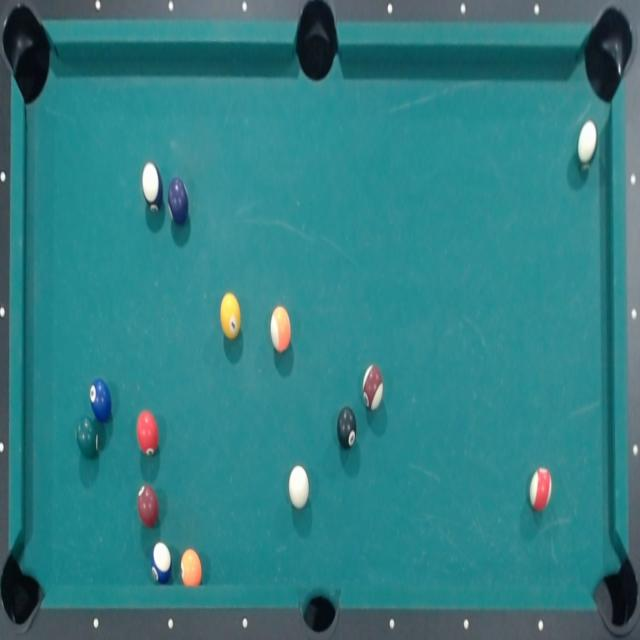black_8ball: (336, 406, 359, 451)
blue_solid: (89, 376, 113, 425)
blue_stripe: (150, 542, 174, 583)
cue_ball: (288, 464, 310, 510)
green_solid: (76, 414, 100, 460)
green_stripe: (576, 118, 600, 178)
maroon_solid: (137, 484, 160, 526)
maroon_stripe: (362, 364, 384, 411)
orange_solid: (180, 548, 202, 586)
orange_stripe: (269, 304, 292, 354)
playr: (167, 176, 190, 227)
purple_solid: (141, 160, 165, 213)
purple_stripe: (136, 409, 161, 457)
red_solid: (528, 466, 554, 516)
red_stripe: (219, 290, 242, 341)
